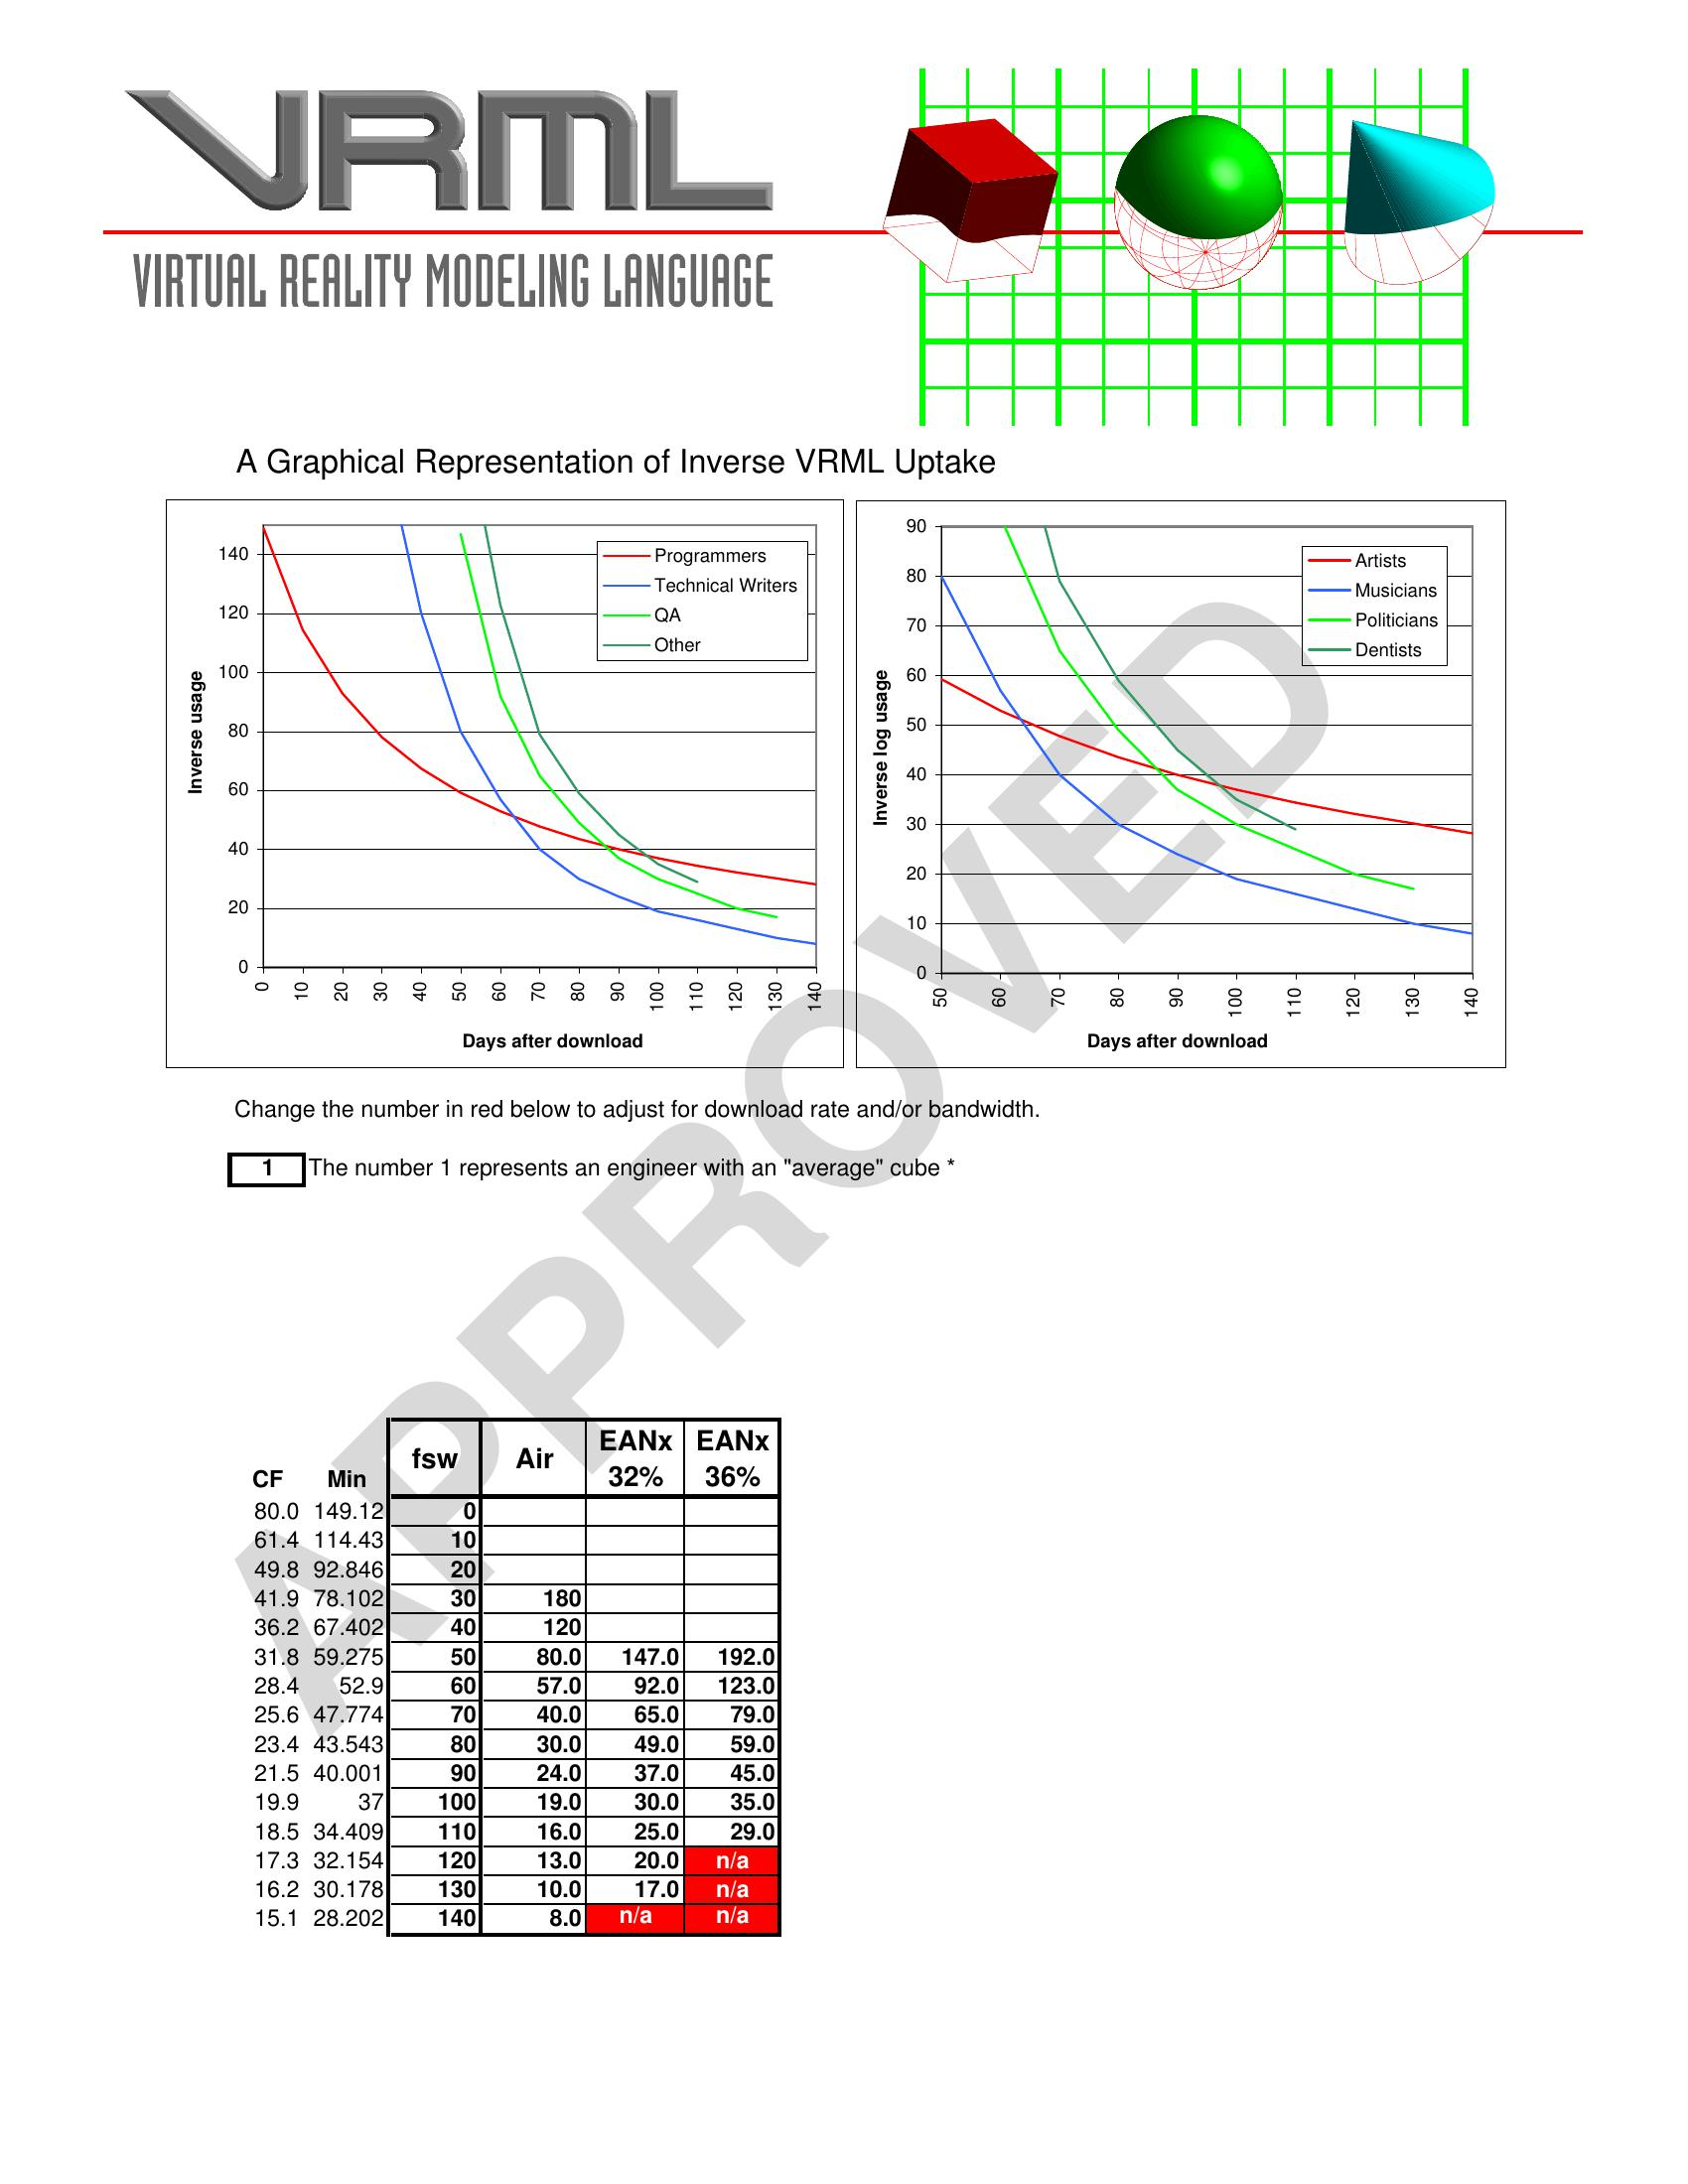table: (231, 1413, 796, 1945)
